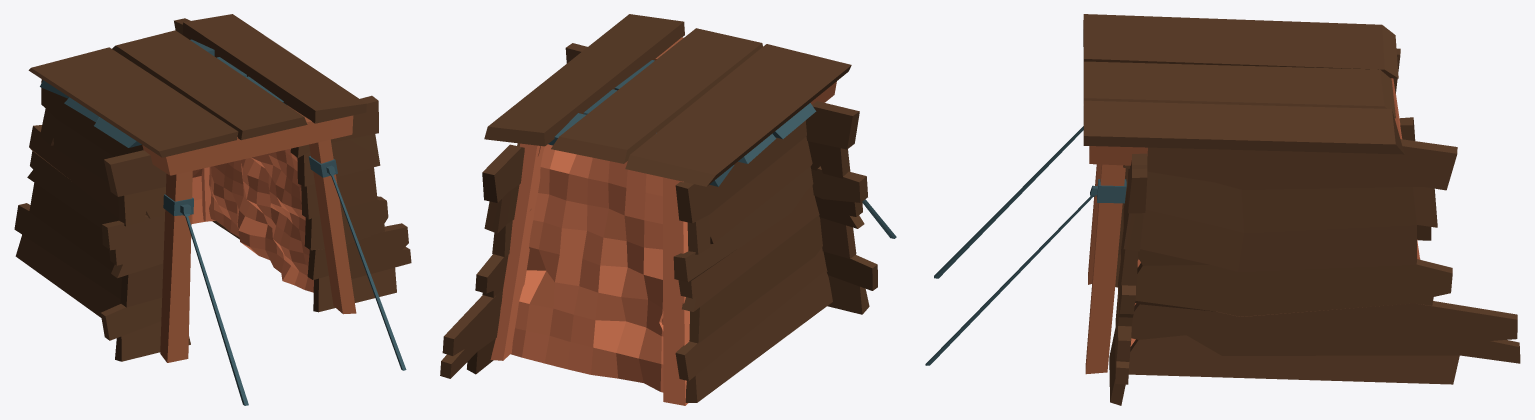
File: Mines_Door_V01.fbx
3 renders of one model, left to right at view 1: azimuth 30°, elevation 25°; view 2: azimuth 150°, elevation 25°; view 3: azimuth 270°, elevation 25°, orthographic. The views are drawn at different scales.
Parts seen in each view (by area): view 1: Mines_Door_V01; view 2: Mines_Door_V01; view 3: Mines_Door_V01.
Part boxes in pixels (x1,y1,x2,y2): Mines_Door_V01: (14, 14, 411, 405); Mines_Door_V01: (440, 14, 896, 405); Mines_Door_V01: (925, 14, 1520, 405).
Size of the model in its own units: 342 by 239 by 494.
